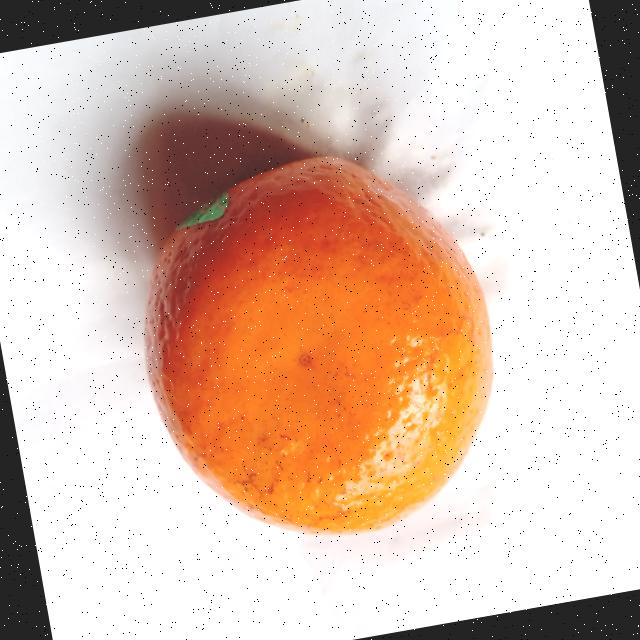Rotten: (115, 130, 522, 566)
